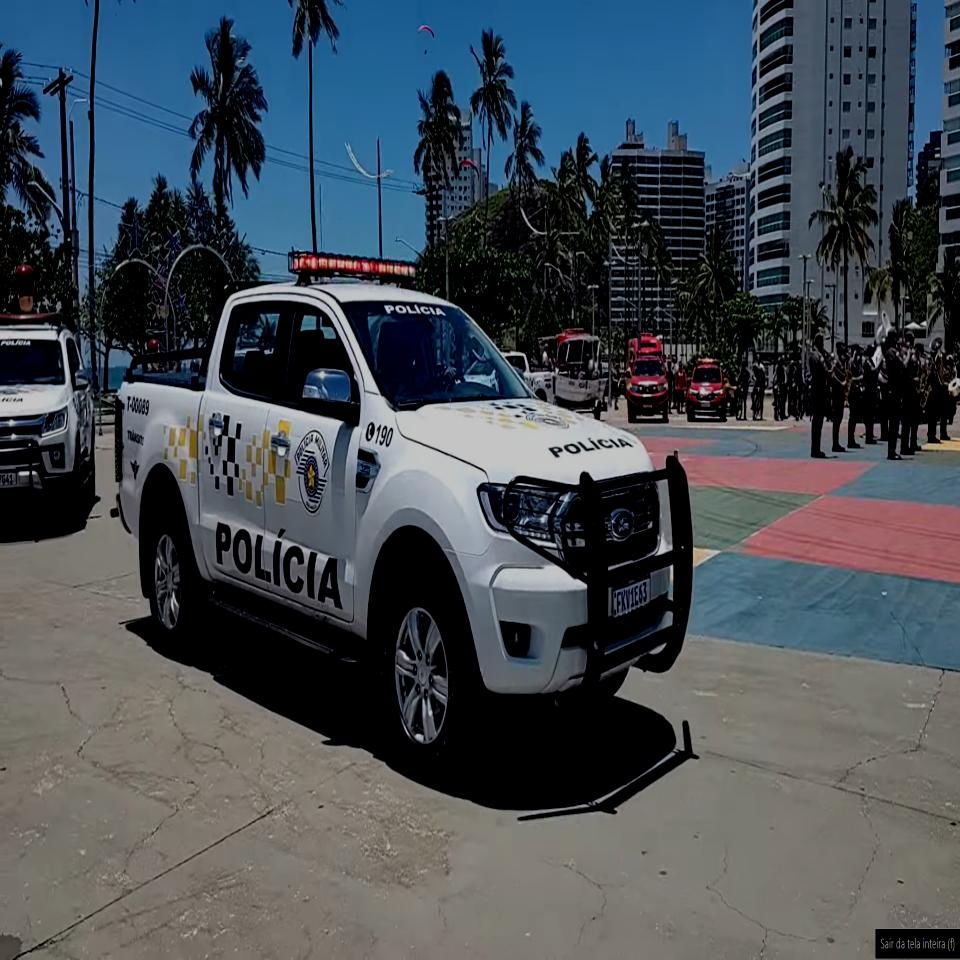viatura: (110, 253, 698, 782), (0, 299, 97, 526)
